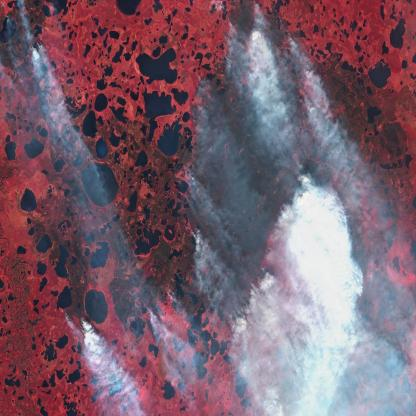fire: (178, 69, 211, 213), (219, 1, 278, 38), (1, 0, 36, 30), (281, 19, 305, 59), (61, 302, 90, 334), (26, 29, 52, 64), (189, 223, 206, 269), (163, 272, 179, 302), (139, 297, 155, 323)
